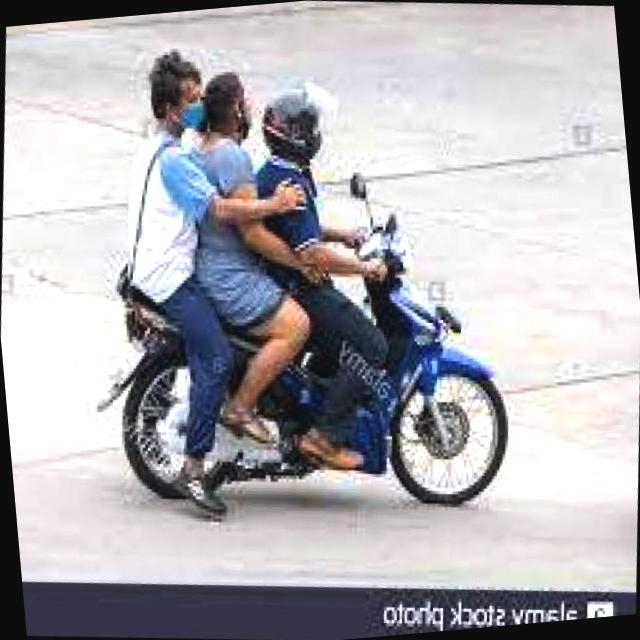motorcycle: (87, 211, 518, 534)
person: (118, 45, 250, 388), (245, 82, 388, 384), (173, 62, 316, 328)
rider_region: (86, 19, 523, 524)
